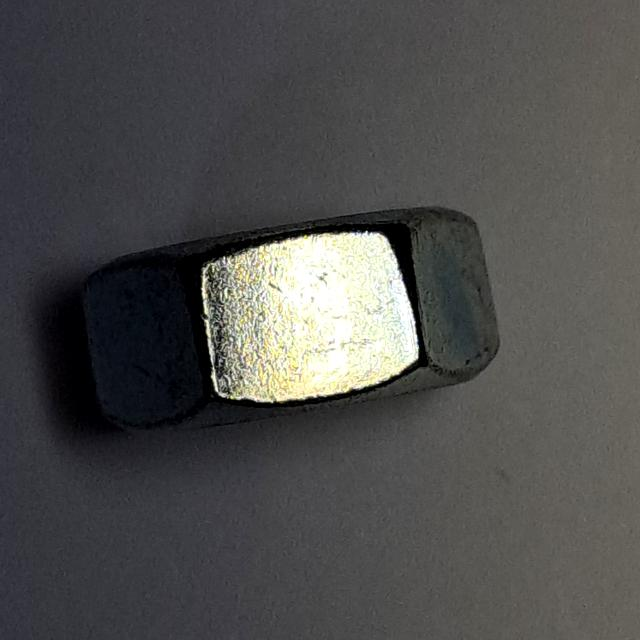Side_Excellent: (70, 188, 513, 461)
